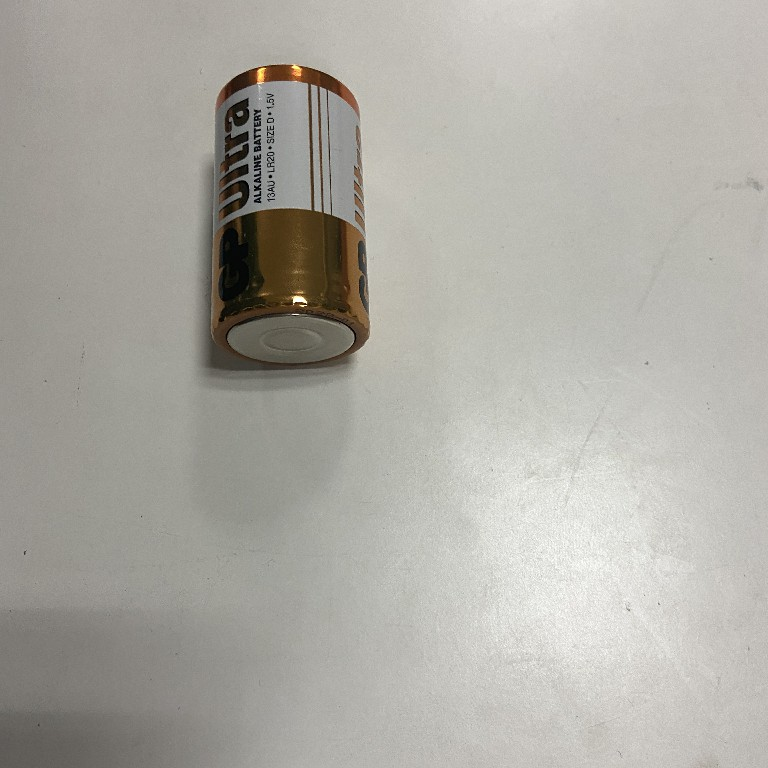charge: (203, 59, 377, 376)
